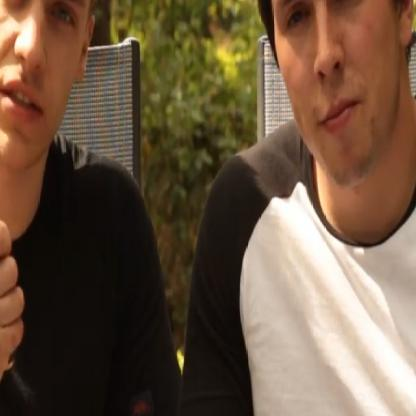knife: (0, 64, 31, 316)
